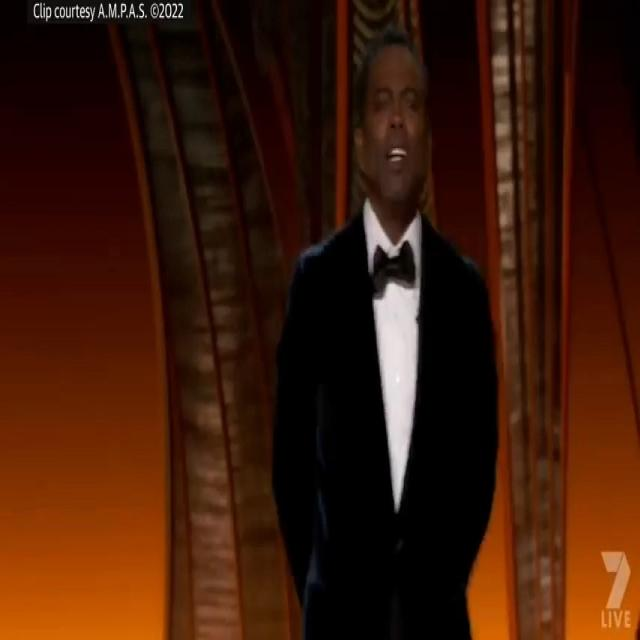non-fight: (255, 6, 524, 640)
